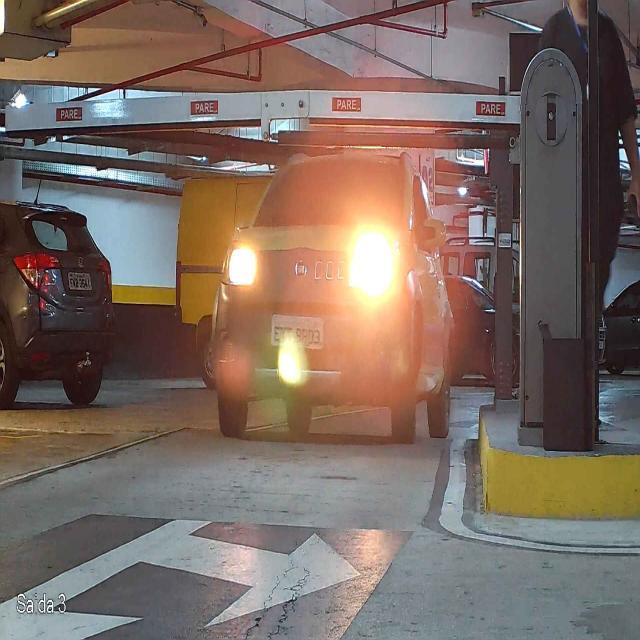old_plate: (268, 312, 326, 351)
